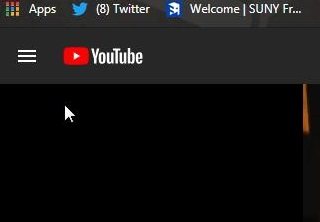cursor: (63, 103, 76, 123)
